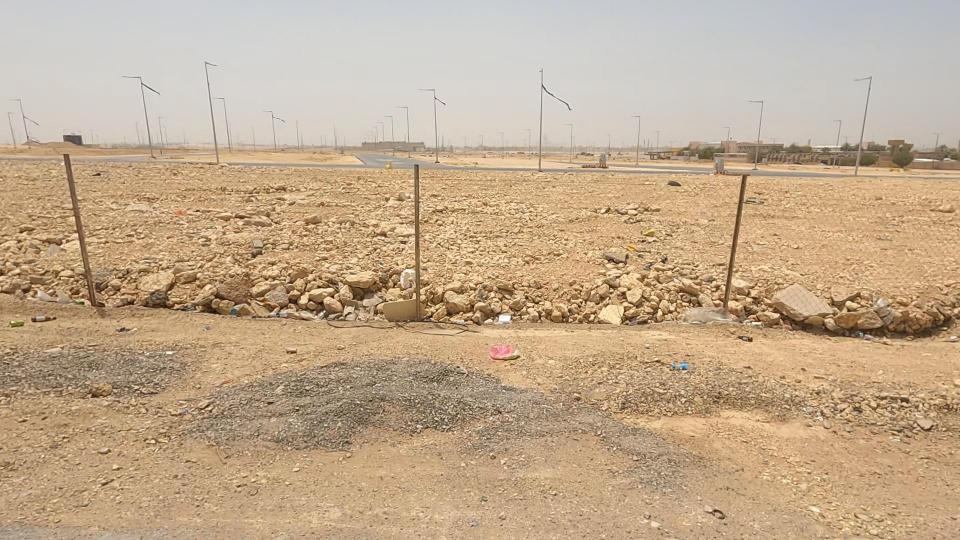GARBAGE: (422, 322, 581, 401), (595, 330, 735, 405)
